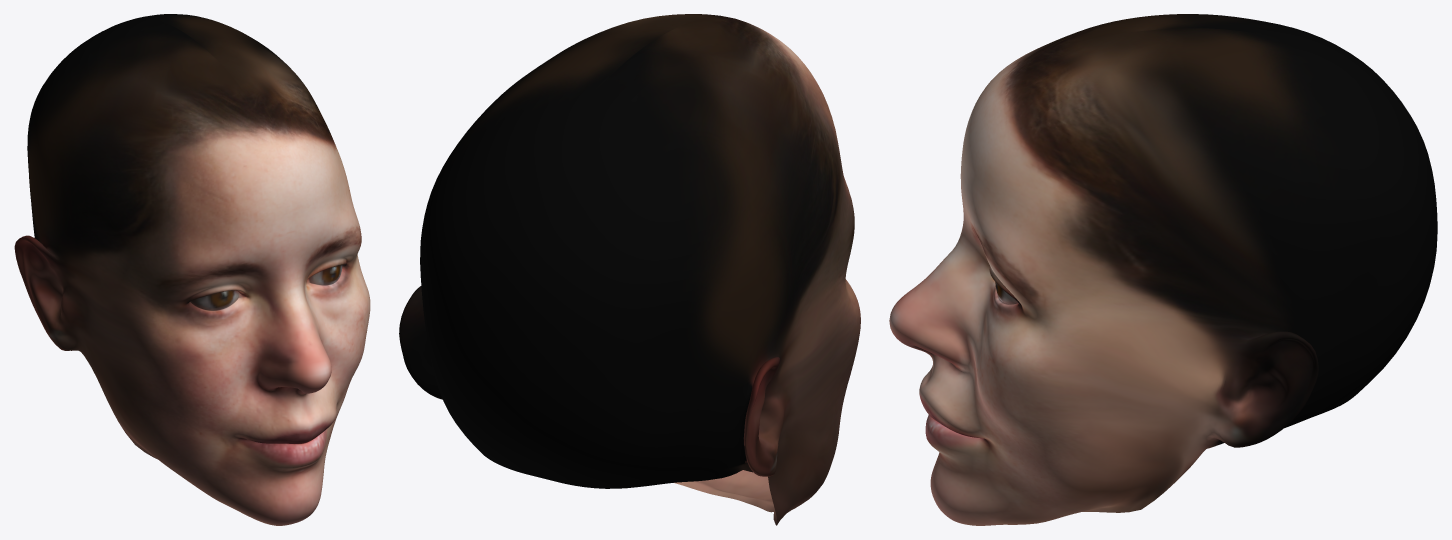
3 renders of one model, left to right at view 1: azimuth 30°, elevation 25°; view 2: azimuth 150°, elevation 25°; view 3: azimuth 270°, elevation 25°, orthographic. The views are drawn at different scales.
Parts seen in each view (by area): view 1: FBHead; view 2: FBHead; view 3: FBHead.
Boxes of the visible parts, left/top/right/bottom form: FBHead: left=14, top=14, right=370, bottom=525; FBHead: left=399, top=14, right=860, bottom=525; FBHead: left=889, top=14, right=1437, bottom=525.
Bounding box in the file's own units: 1.1 × 1.6 × 1.62.
Materials: 1 (1 with a texture image).
